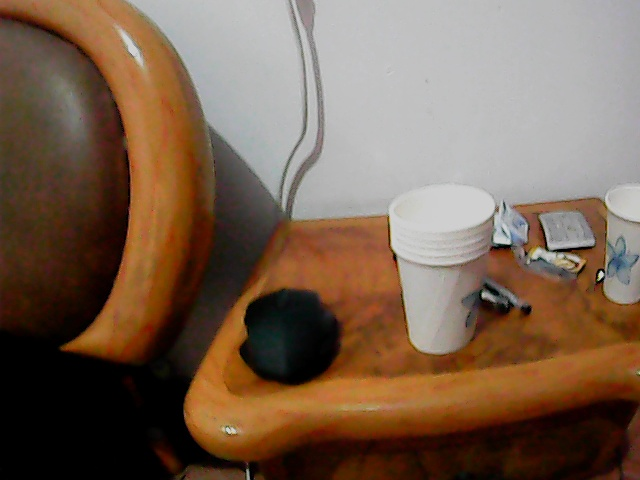cup: (387, 179, 491, 354)
mouse: (237, 281, 342, 384)
